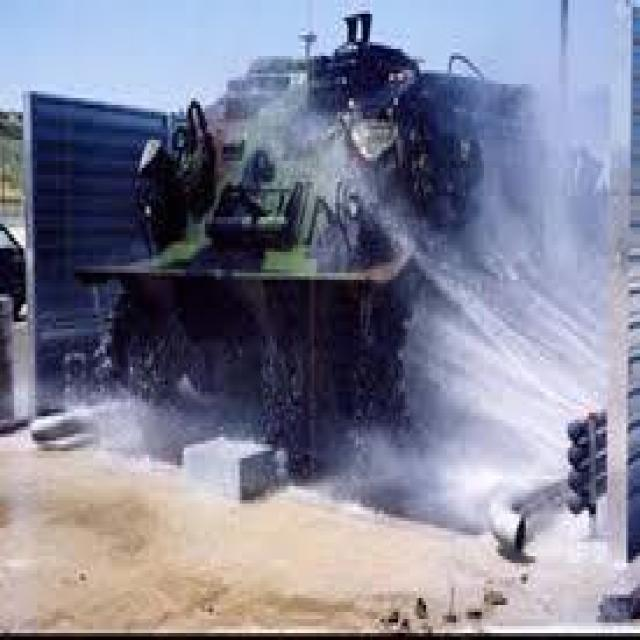Tanks: (122, 95, 367, 458)
